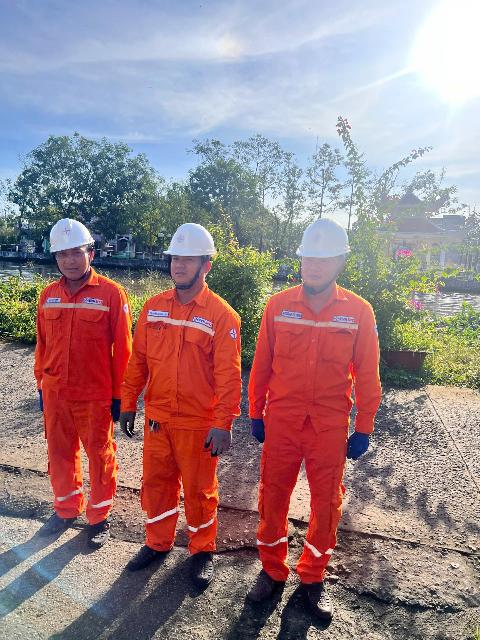gloves: (348, 418, 386, 478), (199, 403, 232, 466), (248, 392, 278, 452), (120, 408, 144, 441), (32, 374, 48, 411), (109, 388, 123, 425)
helmet: (283, 216, 368, 263), (142, 217, 225, 262), (37, 219, 102, 252)
shoes: (294, 552, 352, 634), (236, 542, 288, 617), (111, 512, 171, 572), (181, 536, 218, 596), (39, 501, 80, 535), (79, 508, 118, 543)
